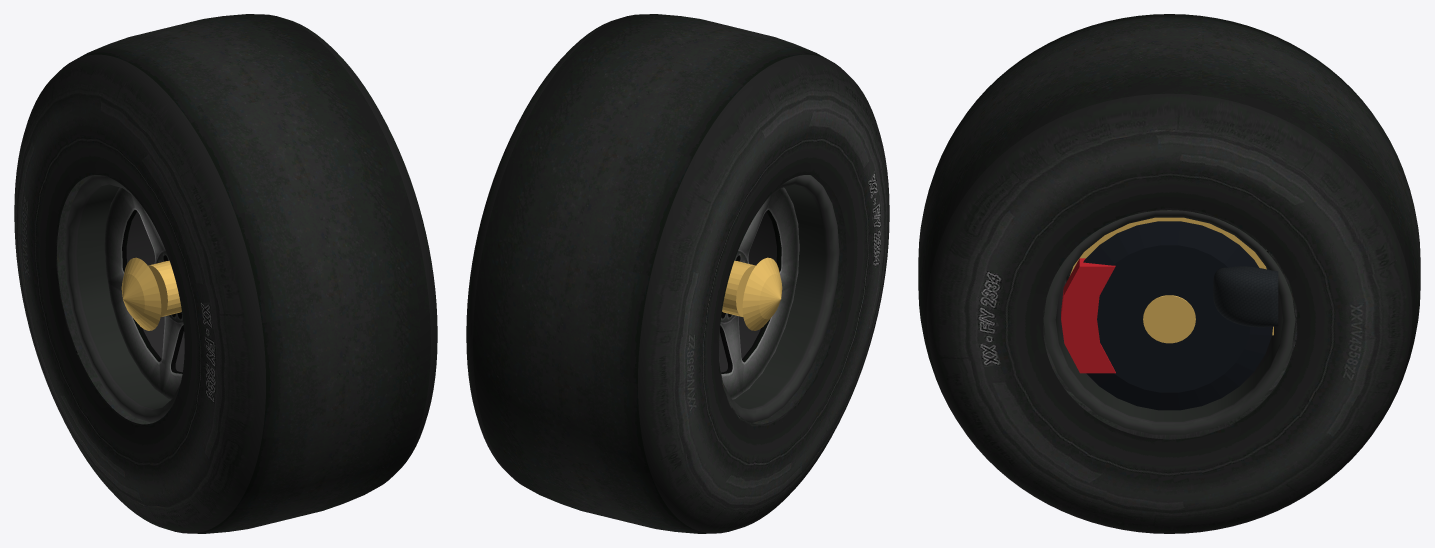
File: f1_2030_v10_wheel_FL.glb
3 views of the same model, side by side, from view 1: azimuth 30°, elevation 25°; view 2: azimuth 150°, elevation 25°; view 3: azimuth 270°, elevation 25° (orthographic).
Parts seen in each view (by area): view 1: GEO_WHEEL_FRONT_LEFT_TIRE, GEO_WHEEL_FRONT_LEFT_RIM_AND_SPOKES, GEO_WHEEL_FRONT_LEFT_CENTER_LOCK_NUT, GEO_WHEEL_FRONT_LEFT_HUB; view 2: GEO_WHEEL_FRONT_LEFT_TIRE, GEO_WHEEL_FRONT_LEFT_RIM_AND_SPOKES, GEO_WHEEL_FRONT_LEFT_CENTER_LOCK_NUT, GEO_WHEEL_FRONT_LEFT_HUB; view 3: GEO_WHEEL_FRONT_LEFT_TIRE, GEO_BRAKE_FRONT_LEFT_DISC, GEO_WHEEL_FRONT_LEFT_RIM_AND_SPOKES, GEO_BRAKE_FRONT_LEFT_CALIPER, GEO_BRAKE_FRONT_LEFT_DUCT, GEO_WHEEL_FRONT_LEFT_HUB, GEO_BRAKE_FRONT_LEFT_INBOARD_DUCT_COVER.
Boxes of the visible parts, <box> form: GEO_WHEEL_FRONT_LEFT_TIRE: <box>14,14,437,533</box>; GEO_WHEEL_FRONT_LEFT_RIM_AND_SPOKES: <box>64,175,184,422</box>; GEO_WHEEL_FRONT_LEFT_CENTER_LOCK_NUT: <box>121,257,161,330</box>; GEO_WHEEL_FRONT_LEFT_HUB: <box>148,260,181,316</box>; GEO_WHEEL_FRONT_LEFT_TIRE: <box>466,14,889,533</box>; GEO_WHEEL_FRONT_LEFT_RIM_AND_SPOKES: <box>719,175,839,422</box>; GEO_WHEEL_FRONT_LEFT_CENTER_LOCK_NUT: <box>742,257,782,330</box>; GEO_WHEEL_FRONT_LEFT_HUB: <box>722,260,755,316</box>; GEO_WHEEL_FRONT_LEFT_TIRE: <box>918,14,1420,533</box>; GEO_BRAKE_FRONT_LEFT_DISC: <box>1083,221,1272,410</box>; GEO_WHEEL_FRONT_LEFT_RIM_AND_SPOKES: <box>1043,210,1295,434</box>; GEO_BRAKE_FRONT_LEFT_CALIPER: <box>1061,258,1115,373</box>; GEO_BRAKE_FRONT_LEFT_DUCT: <box>1213,266,1278,327</box>; GEO_WHEEL_FRONT_LEFT_HUB: <box>1143,295,1195,343</box>; GEO_BRAKE_FRONT_LEFT_INBOARD_DUCT_COVER: <box>1070,217,1273,335</box>.
Bounding box in the file's own units: 0.3861 × 0.67 × 0.67.
Materials: 7 (4 with a texture image).
